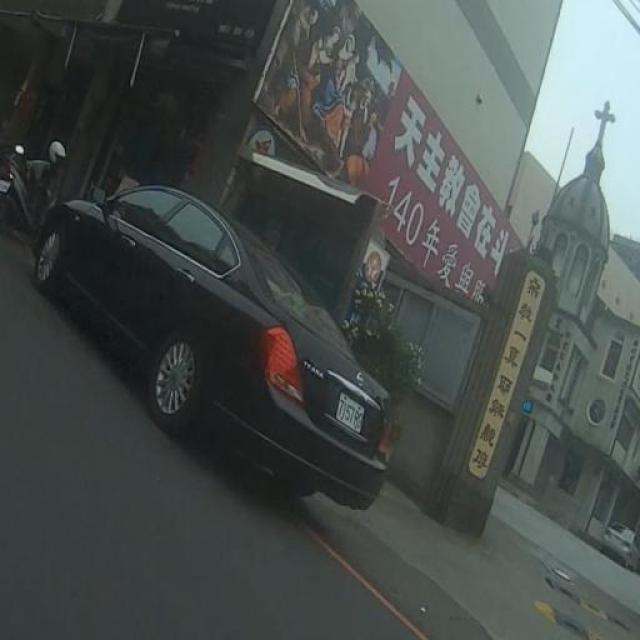illegalparking: (32, 185, 389, 509)
